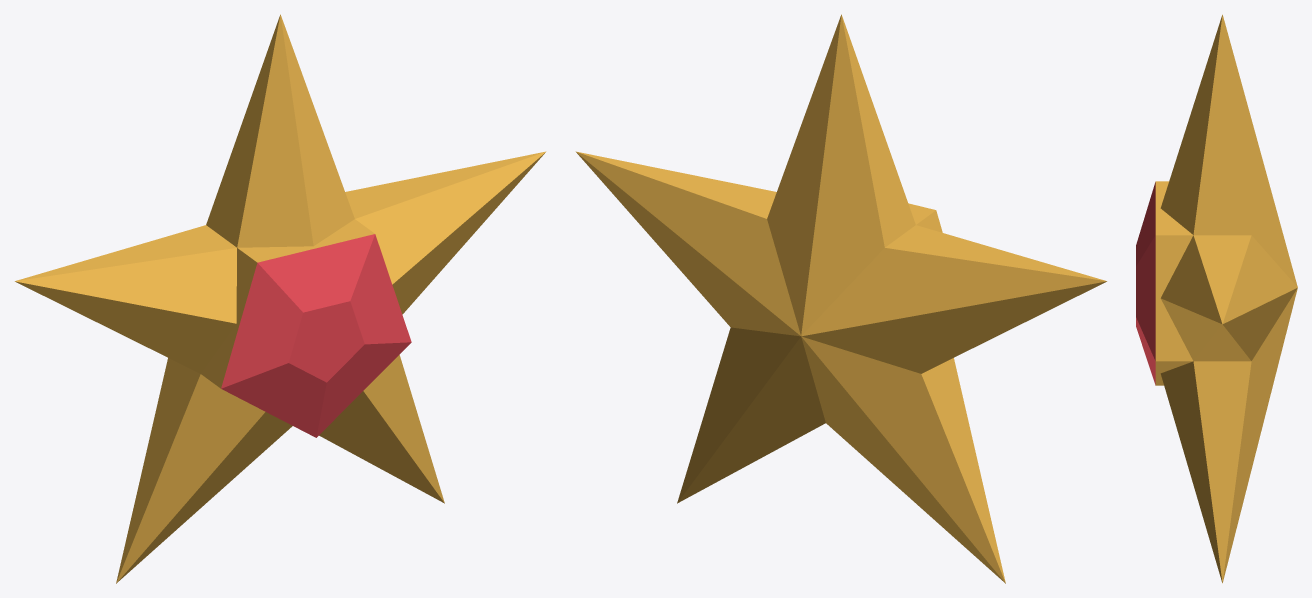
File: star.fbx
The picture shows the model from 3 angles, left to right: view 1: azimuth 30°, elevation 25°; view 2: azimuth 150°, elevation 25°; view 3: azimuth 270°, elevation 25°; orthographic projection. The views are drawn at different scales.
Parts seen in each view (by area): view 1: Star; view 2: Star; view 3: Star.
Part boxes in pixels (x1=…): Star: x1=15, y1=14, x2=546, y2=583; Star: x1=575, y1=14, x2=1106, y2=583; Star: x1=1136, y1=14, x2=1297, y2=583.
Size of the model in its own units: 78.49 by 74.65 by 22.12.
